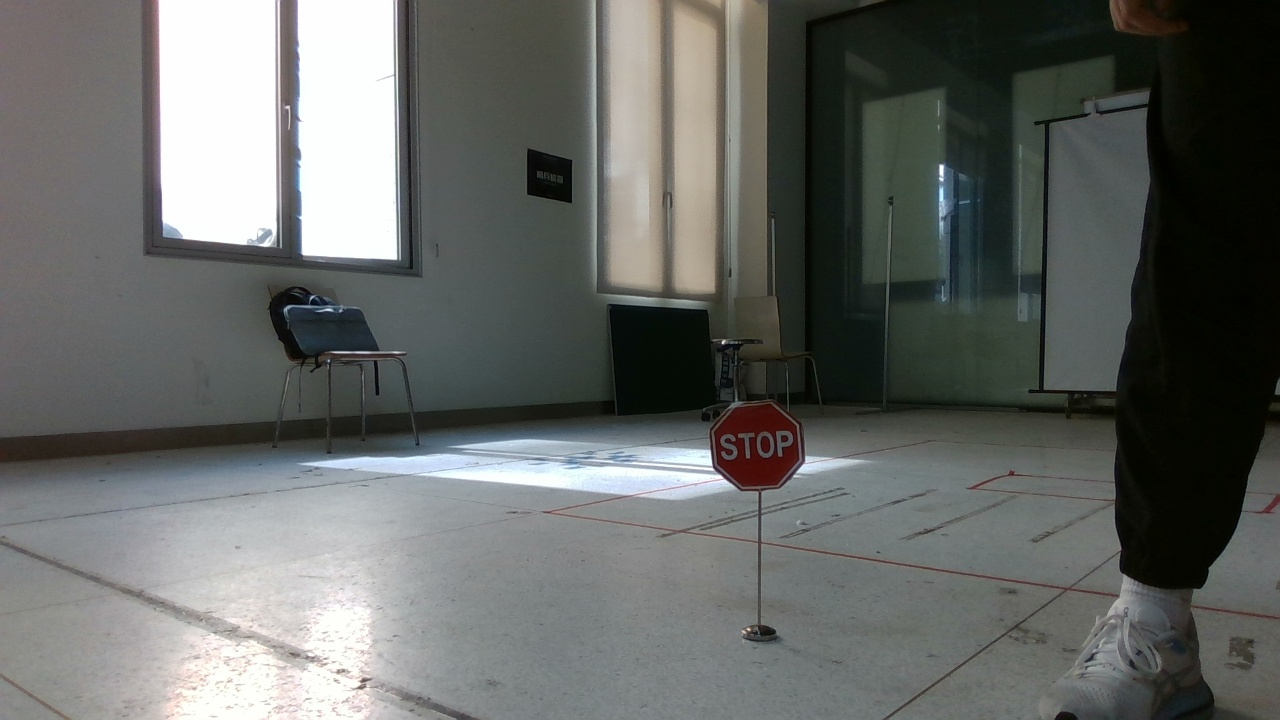stop_sign: (704, 390, 810, 490)
